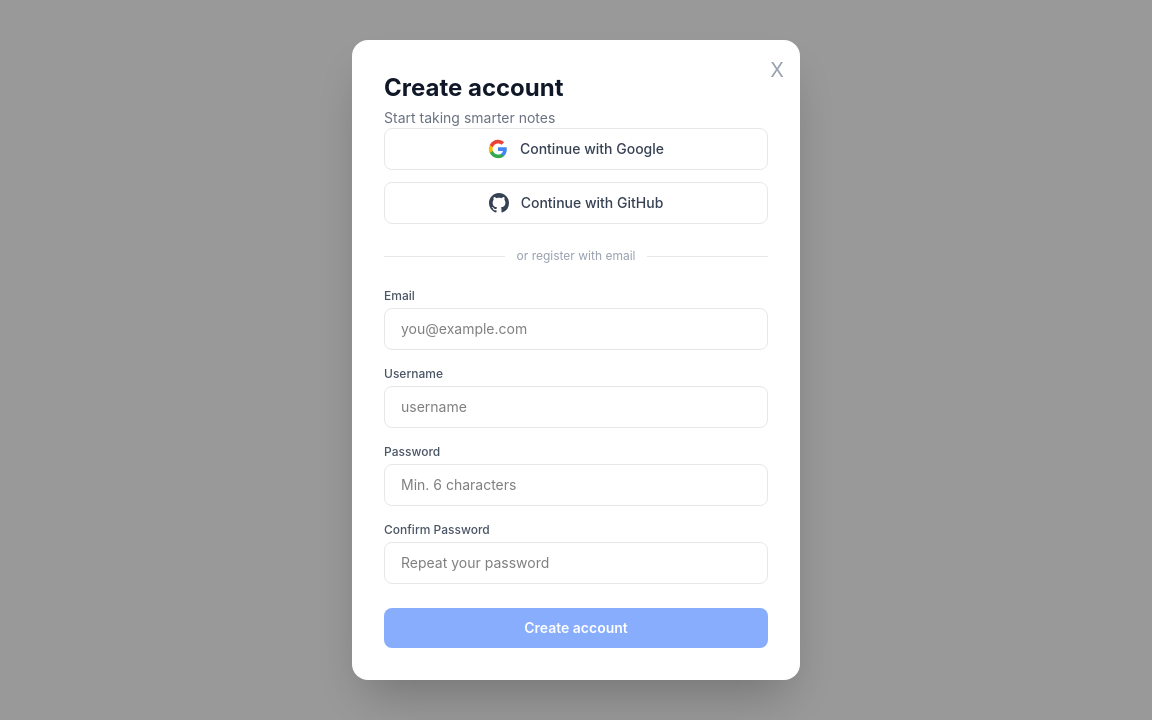
Test: Register modal › shows error when passwords do not match
In the field with placeholder "you@example.com": x=576, y=329 left=384, top=308, right=768, bottom=350, type "test@example.com"
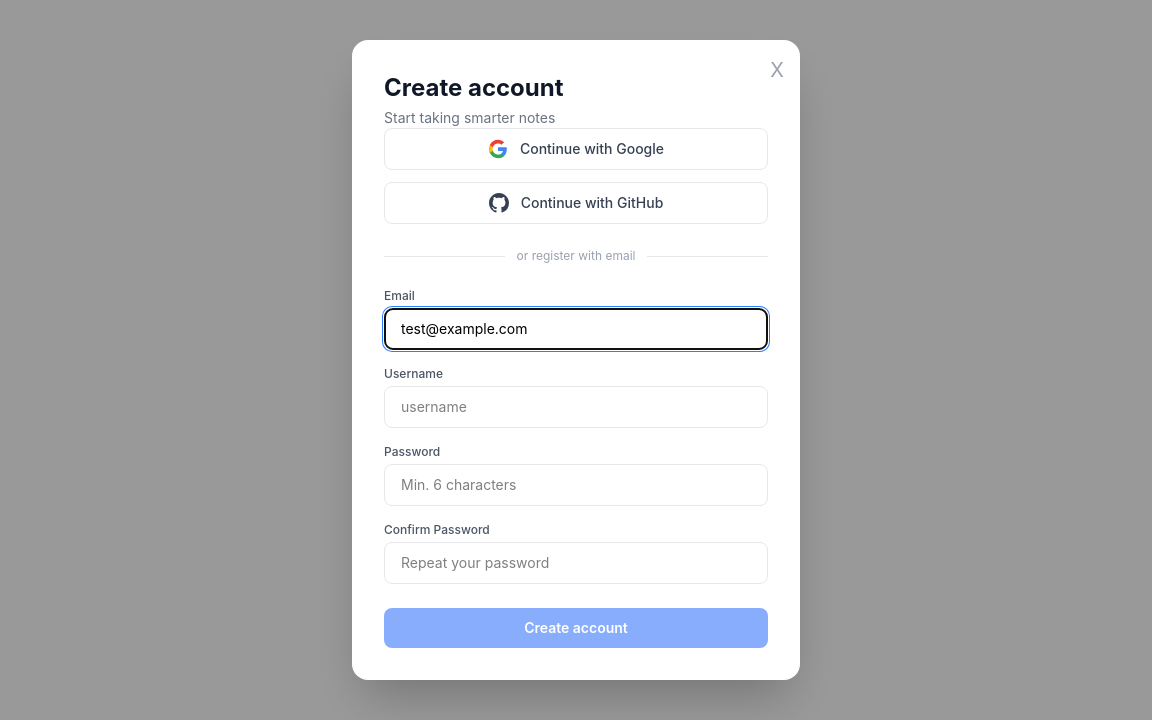
In the field with placeholder "username": x=576, y=407 left=384, top=386, right=768, bottom=428, type "testuser"
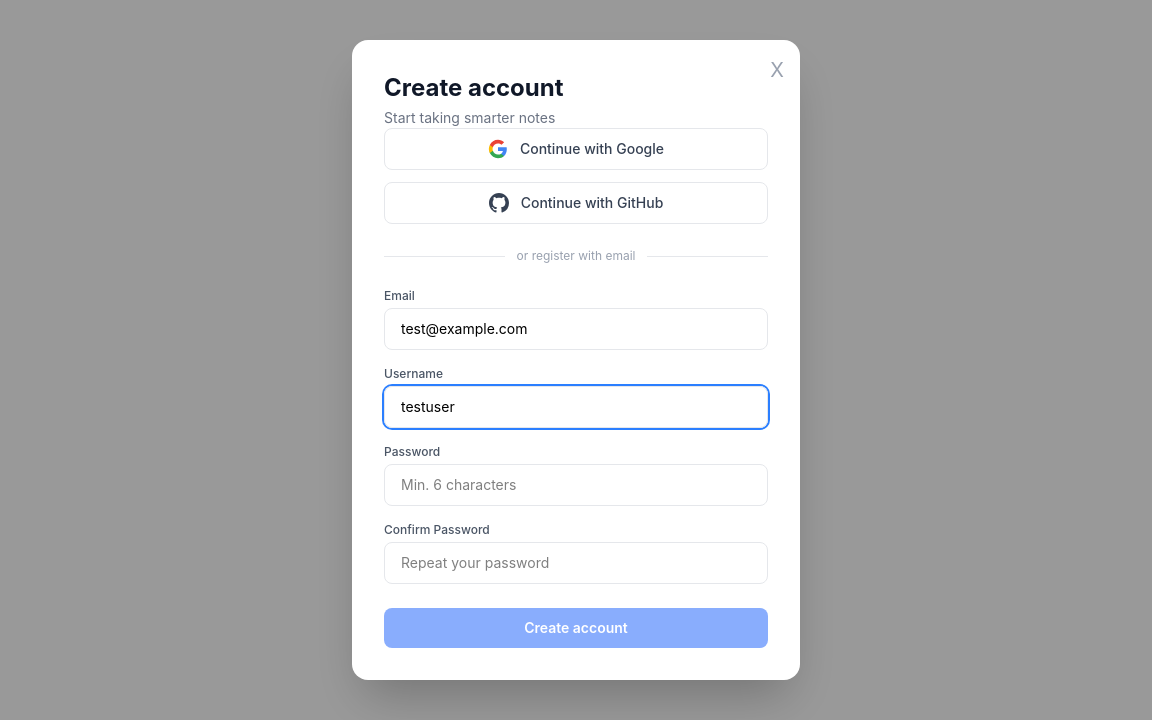
In the password field with placeholder "Min. 6 characters": x=576, y=485 left=384, top=464, right=768, bottom=506, type "password123"
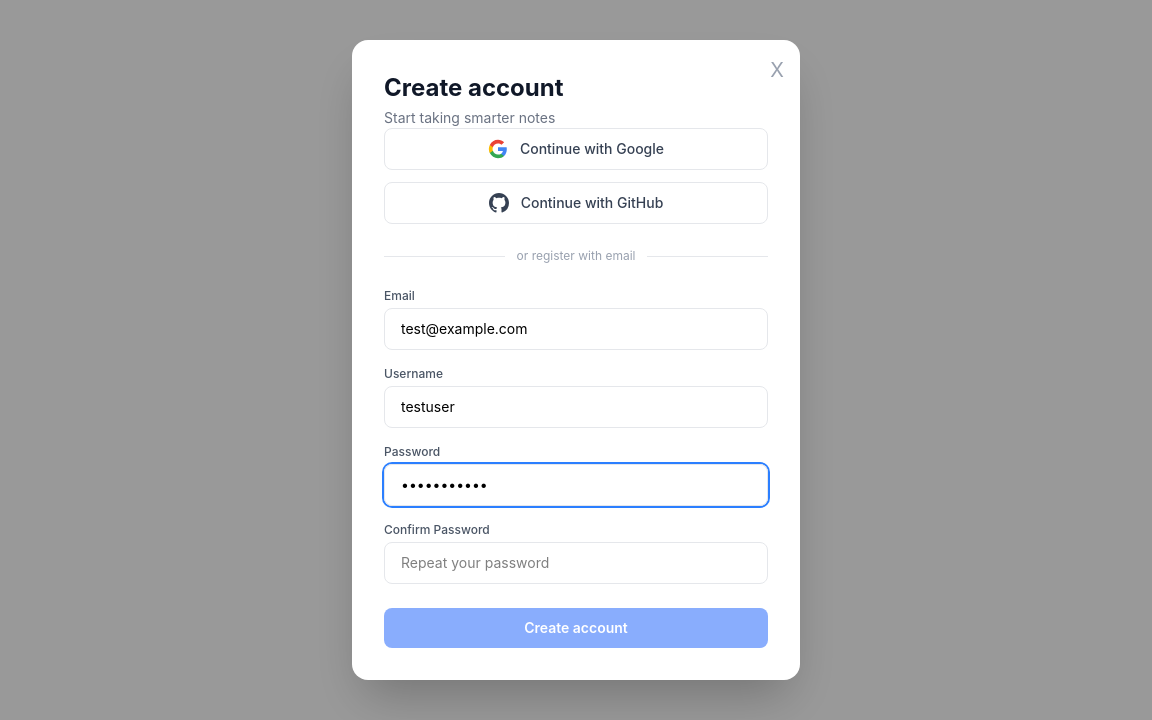
In the password field with placeholder "Repeat your password": x=576, y=563 left=384, top=542, right=768, bottom=584, type "diff_password"
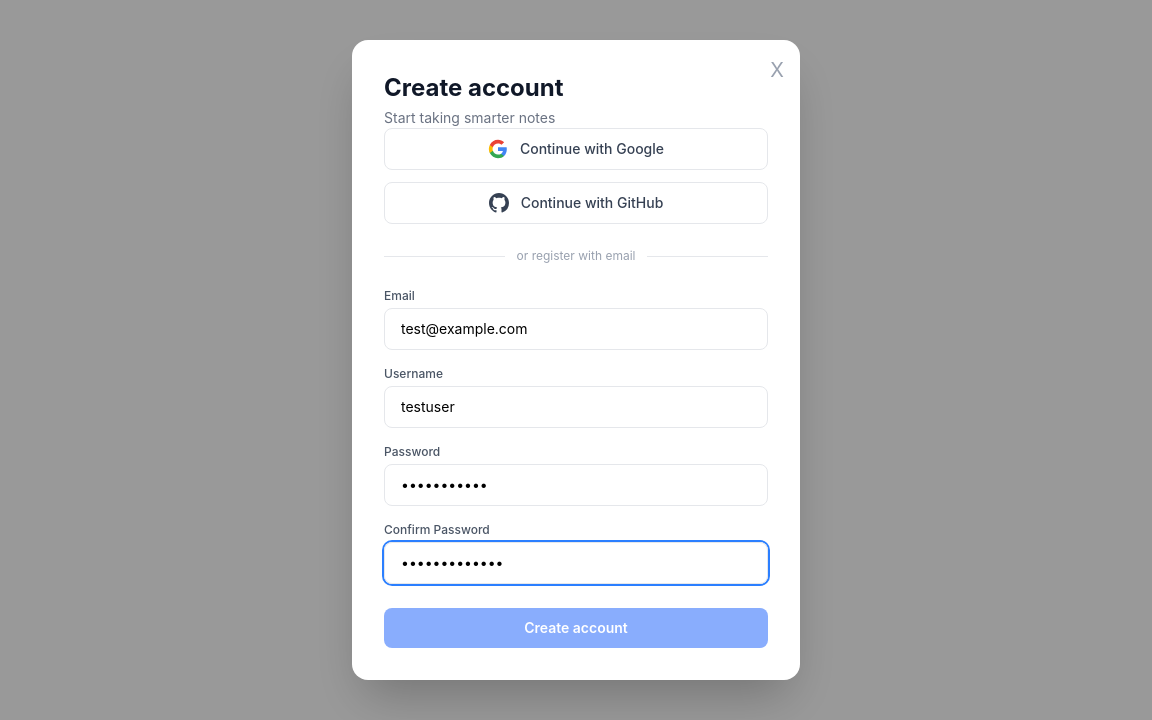
Click the button "Create account": x=576, y=628 left=384, top=608, right=768, bottom=648
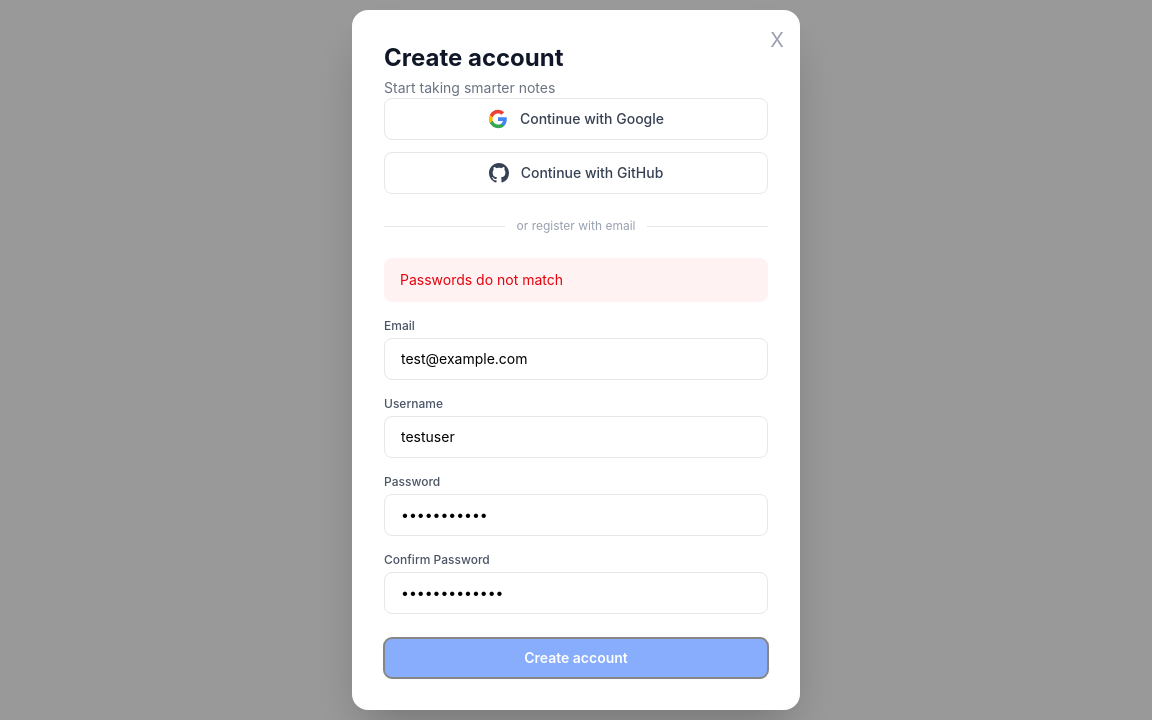
Expected: the text "Passwords do not match" is shown, left=384, top=258, right=768, bottom=302
